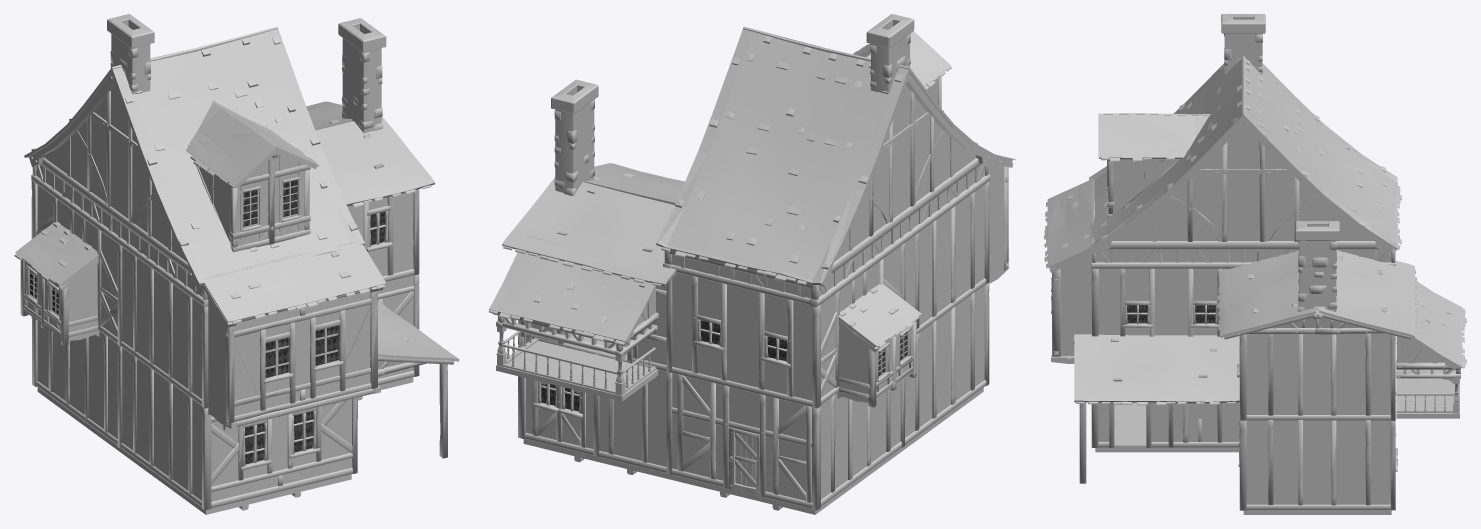
Rendered from House_3.fbx.
3 views of the same model, side by side, from view 1: azimuth 30°, elevation 25°; view 2: azimuth 150°, elevation 25°; view 3: azimuth 270°, elevation 25° (orthographic). The views are drawn at different scales.
Visible parts, largest first — view 1: StaticMeshComponent0, StaticMeshComponent046, StaticMeshComponent05, StaticMeshComponent09, StaticMeshComponent047, StaticMeshComponent042, StaticMeshComponent039, StaticMeshComponent021, StaticMeshComponent019, StaticMeshComponent032, StaticMeshComponent06, StaticMeshComponent036 (+6 smaller); view 2: StaticMeshComponent03, StaticMeshComponent05, StaticMeshComponent01, StaticMeshComponent08, StaticMeshComponent016, StaticMeshComponent02, StaticMeshComponent09, StaticMeshComponent042, StaticMeshComponent039, StaticMeshComponent021, StaticMeshComponent014, StaticMeshComponent013 (+10 smaller); view 3: StaticMeshComponent04, StaticMeshComponent020, StaticMeshComponent010, StaticMeshComponent0, StaticMeshComponent036, StaticMeshComponent03, StaticMeshComponent034, StaticMeshComponent046, StaticMeshComponent01, StaticMeshComponent02, StaticMeshComponent019, StaticMeshComponent06 (+9 smaller).
Part boxes in pixels (x1,y1,x2,y2): StaticMeshComponent0: (132,29,352,276); StaticMeshComponent046: (202,241,386,430); StaticMeshComponent05: (24,65,208,306); StaticMeshComponent09: (14,185,122,346); StaticMeshComponent047: (211,397,357,508); StaticMeshComponent042: (121,348,211,510); StaticMeshComponent039: (121,247,208,408); StaticMeshComponent021: (36,321,122,448); StaticMeshComponent019: (315,116,435,207); StaticMeshComponent032: (347,189,419,281); StaticMeshComponent06: (338,18,386,132); StaticMeshComponent036: (378,301,459,376); StaticMeshComponent03: (661,29,888,304); StaticMeshComponent05: (809,65,996,307); StaticMeshComponent01: (488,235,658,401); StaticMeshComponent08: (671,272,820,408); StaticMeshComponent016: (671,373,820,510); StaticMeshComponent02: (502,177,676,286); StaticMeshComponent09: (821,242,921,407); StaticMeshComponent042: (905,282,989,444); StaticMeshComponent039: (905,181,989,333); StaticMeshComponent021: (821,378,905,505); StaticMeshComponent014: (598,365,672,474); StaticMeshComponent013: (525,337,599,456); StaticMeshComponent04: (1089,110,1397,268); StaticMeshComponent020: (1246,420,1395,510); StaticMeshComponent010: (1246,333,1395,420); StaticMeshComponent0: (1089,56,1243,241); StaticMeshComponent036: (1073,334,1239,405); StaticMeshComponent03: (1243,56,1401,259); StaticMeshComponent034: (1098,268,1223,336); StaticMeshComponent046: (1044,179,1098,363); StaticMeshComponent01: (1396,281,1466,418); StaticMeshComponent02: (1315,250,1417,339); StaticMeshComponent019: (1217,250,1320,339); StaticMeshComponent06: (1295,221,1339,311).
Size of what is drawn, in the model's own units: 1424 by 1699 by 1712.
